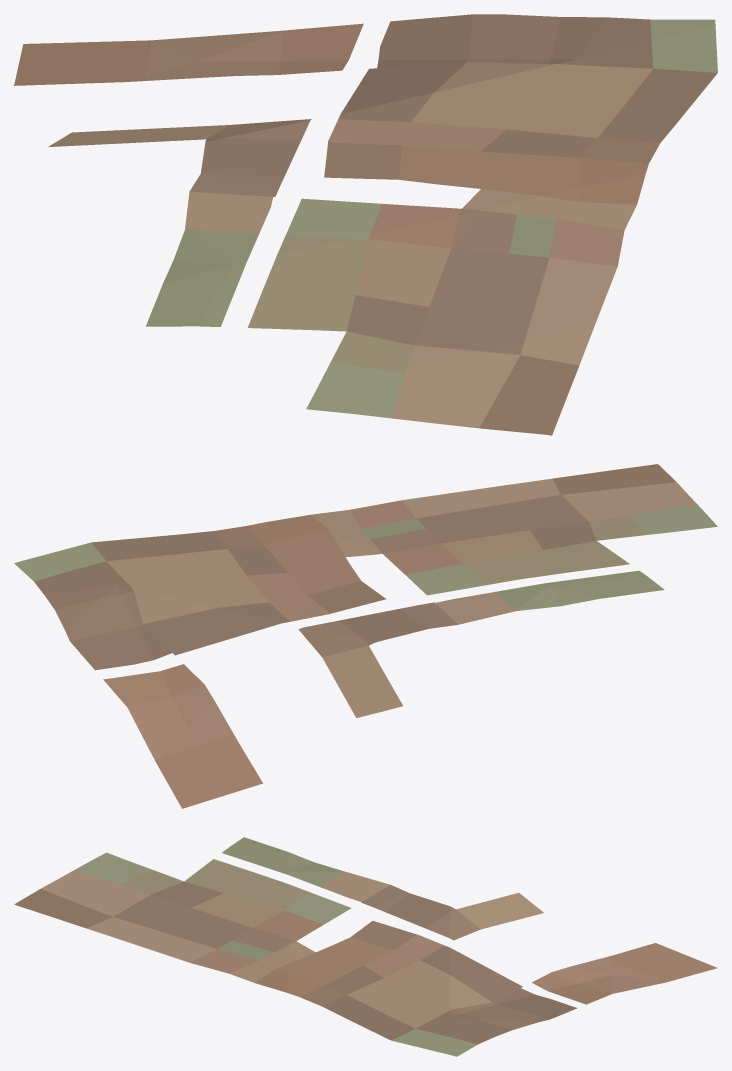
File: farm_-1_8_soil.glb
3 views of the same model, one above another, from view 1: azimuth 30°, elevation 25°; view 2: azimuth 150°, elevation 25°; view 3: azimuth 270°, elevation 25° (orthographic). The views are drawn at different scales.
Parts seen in each view (by area): view 1: geometry_0; view 2: geometry_0; view 3: geometry_0.
Part boxes in pixels (box(x1,y1,x2,y2)): geometry_0: box(14, 14, 717, 435); geometry_0: box(14, 464, 717, 808); geometry_0: box(14, 837, 717, 1056).
Bounding box in the file's own units: 250 × 28.19 × 348.
